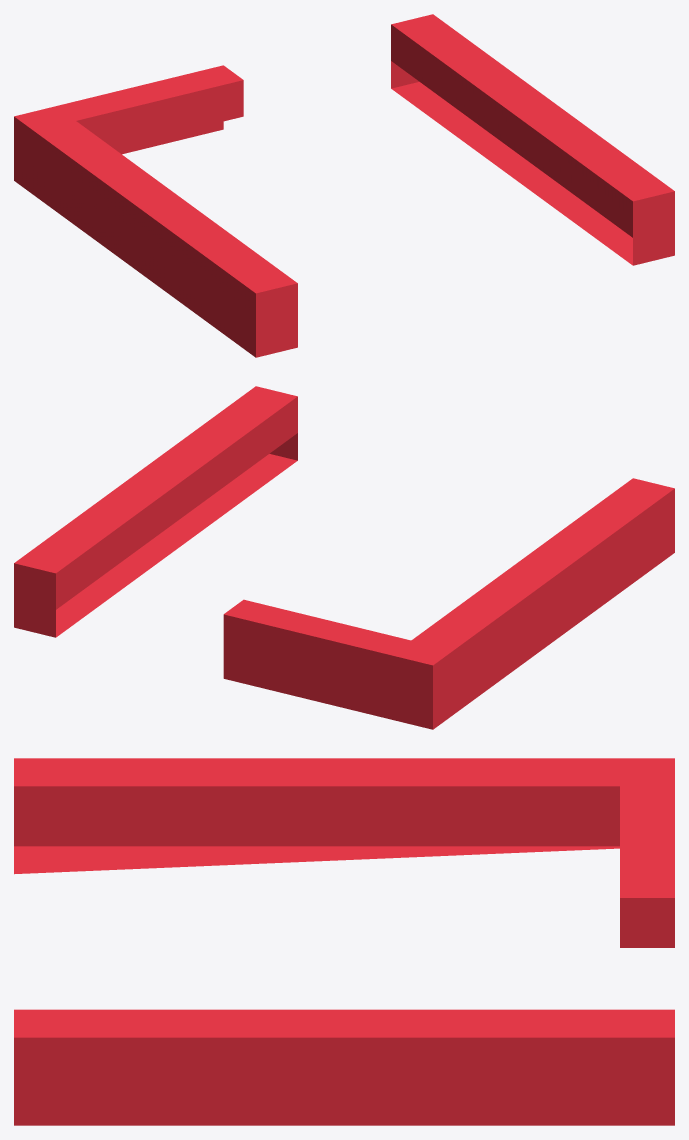
File: wallRight_pared.FBX
The picture shows the model from 3 angles, top to bottom: view 1: azimuth 30°, elevation 25°; view 2: azimuth 150°, elevation 25°; view 3: azimuth 270°, elevation 25°; orthographic projection. The views are drawn at different scales.
Visible parts, largest first — view 1: wallRight; view 2: wallRight; view 3: wallRight.
Boxes of the visible parts, x1,y1,x2,y2 form: wallRight: (14,14,674,357); wallRight: (14,386,674,729); wallRight: (14,758,674,1125).
Size of the model in its own units: 99.99 by 14.67 by 99.99.
